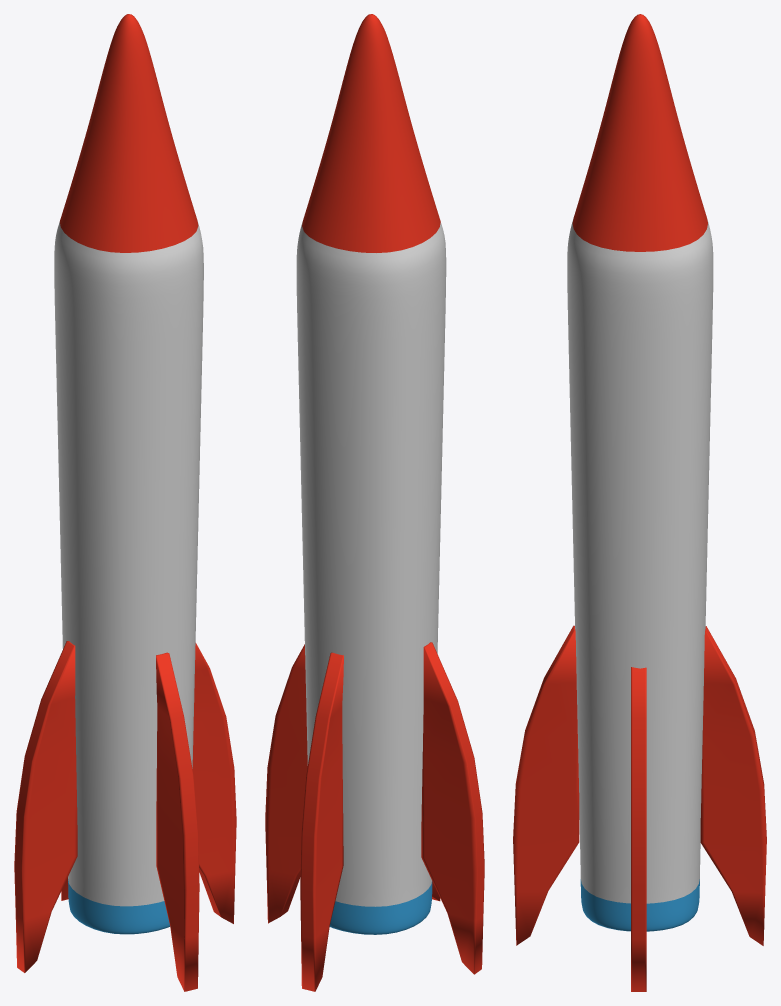
The model's file is bomb.glb.
The picture shows the model from 3 angles, left to right: view 1: azimuth 30°, elevation 25°; view 2: azimuth 150°, elevation 25°; view 3: azimuth 270°, elevation 25°; orthographic projection.
Parts seen in each view (by area): view 1: Body_2, Fing.003_6, Fing_3, Fing.001_4; view 2: Body_2, Fing.003_6, Fing.002_5, Fing.001_4; view 3: Body_2, Fing_3, Fing.002_5, Fing.001_4.
Boxes of the visible parts, x1,y1,x2,y2 form: Body_2: [54, 14, 203, 934]; Fing.003_6: [14, 641, 77, 972]; Fing_3: [156, 652, 199, 991]; Fing.001_4: [192, 643, 236, 923]; Body_2: [296, 14, 446, 934]; Fing.003_6: [421, 642, 484, 974]; Fing.002_5: [300, 652, 343, 991]; Fing.001_4: [265, 644, 307, 923]; Body_2: [567, 14, 713, 931]; Fing_3: [513, 625, 579, 945]; Fing.002_5: [700, 626, 766, 945]; Fing.001_4: [631, 667, 646, 991].
Size of the model in its own units: 0.7736 by 3.23 by 0.7993.
